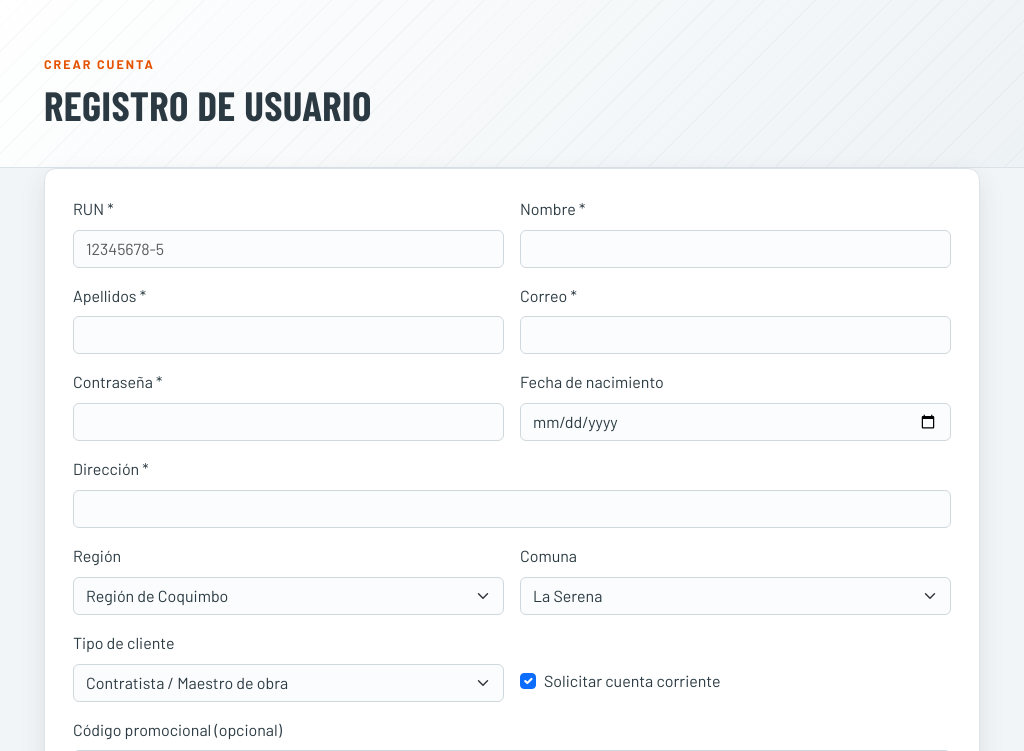
Test: Formulario de Registro › muestra errores y no envía datos cuando son inválidos
The width and height of the screenshot is (1024, 751).
Type "12345678-9" into the field labelled "RUN *" at (288, 248), box [73,230,504,268]
Type "María" into the field labelled "Nombre *" at (736, 248), box [520,230,951,268]
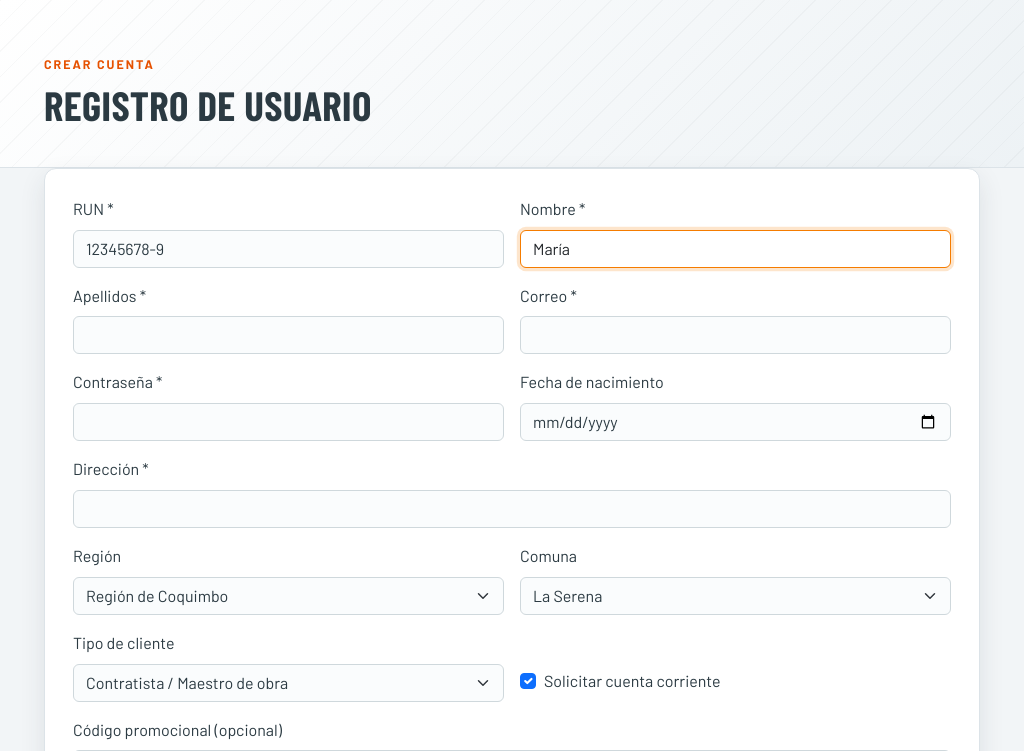
Type "González" into the field labelled "Apellidos *" at (288, 335), box [73,316,504,354]
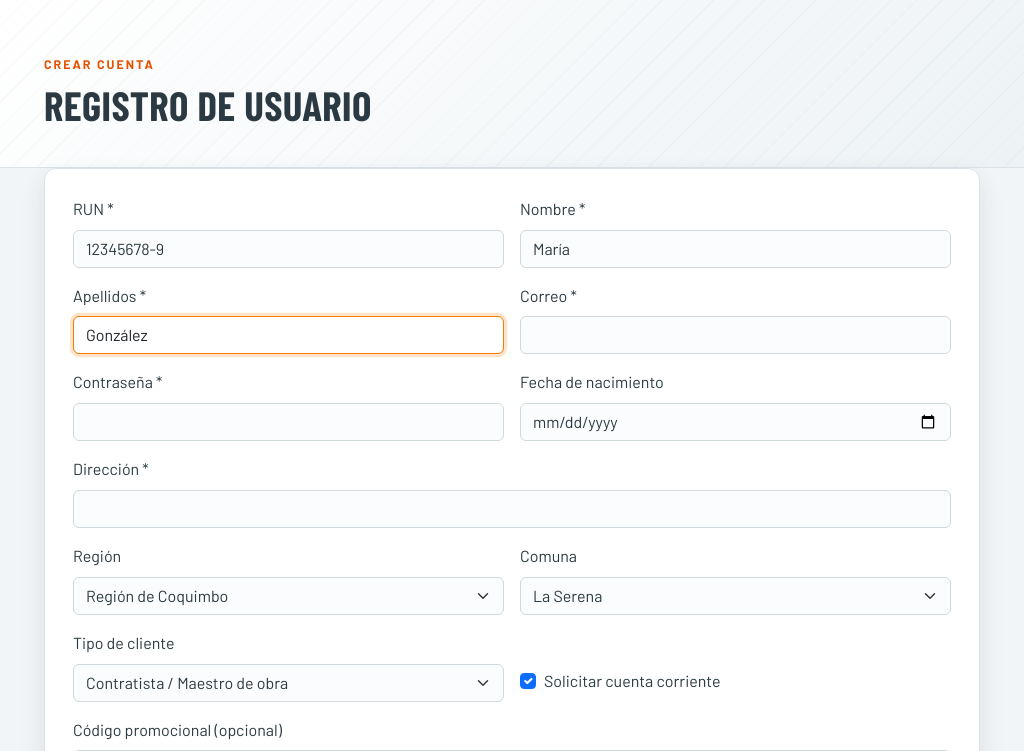
Type "alumna@correo.cl" into the field labelled "Correo *" at (736, 335), box [520,316,951,354]
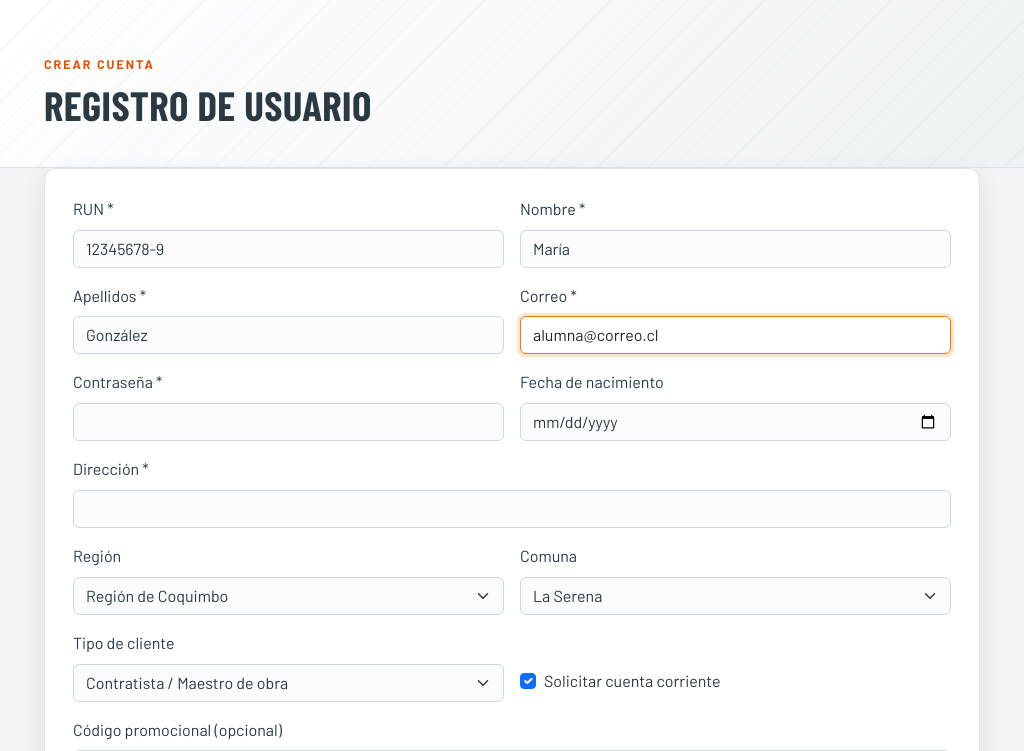
Type "1234" into the password field labelled "Contraseña *" at (288, 422), box [73,403,504,441]
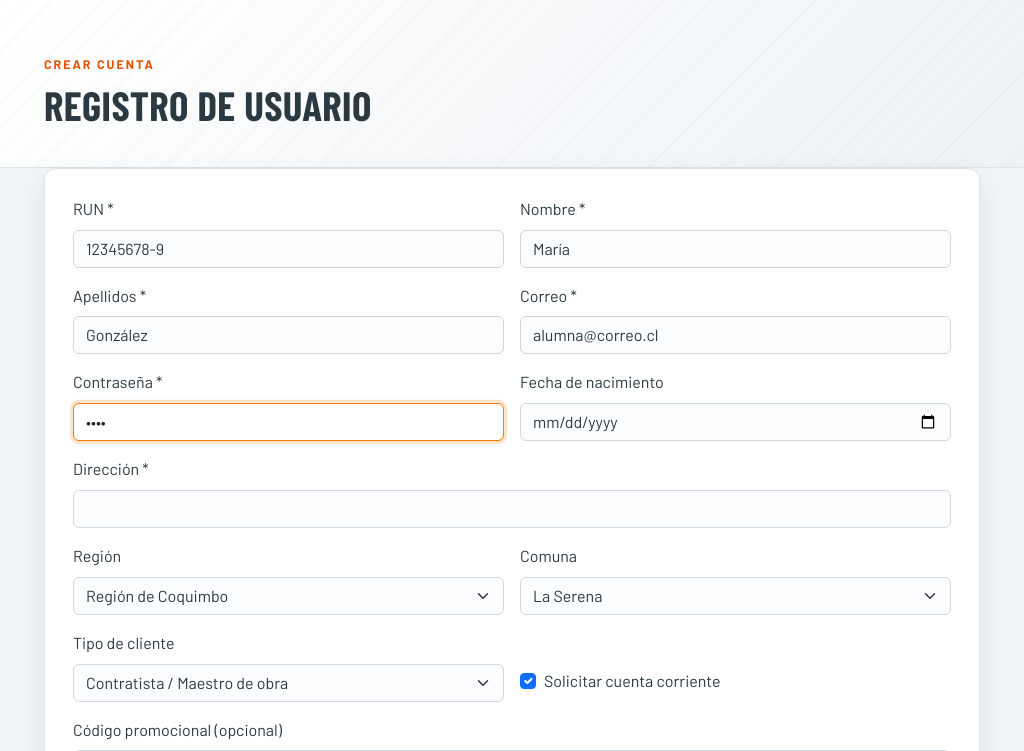
Type "Av. Siempre Viva 123" into the field labelled "Dirección *" at (512, 509), box [73,490,951,528]
(page scrolled)
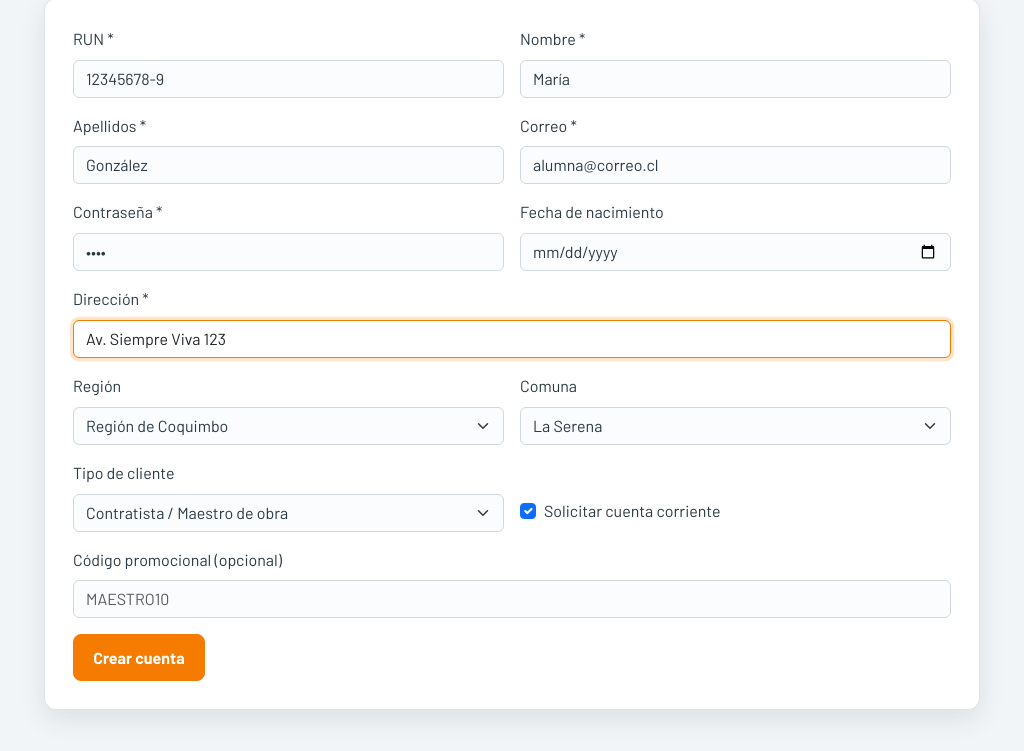
Click the button "Crear cuenta" at (139, 658), box [73,634,205,681]
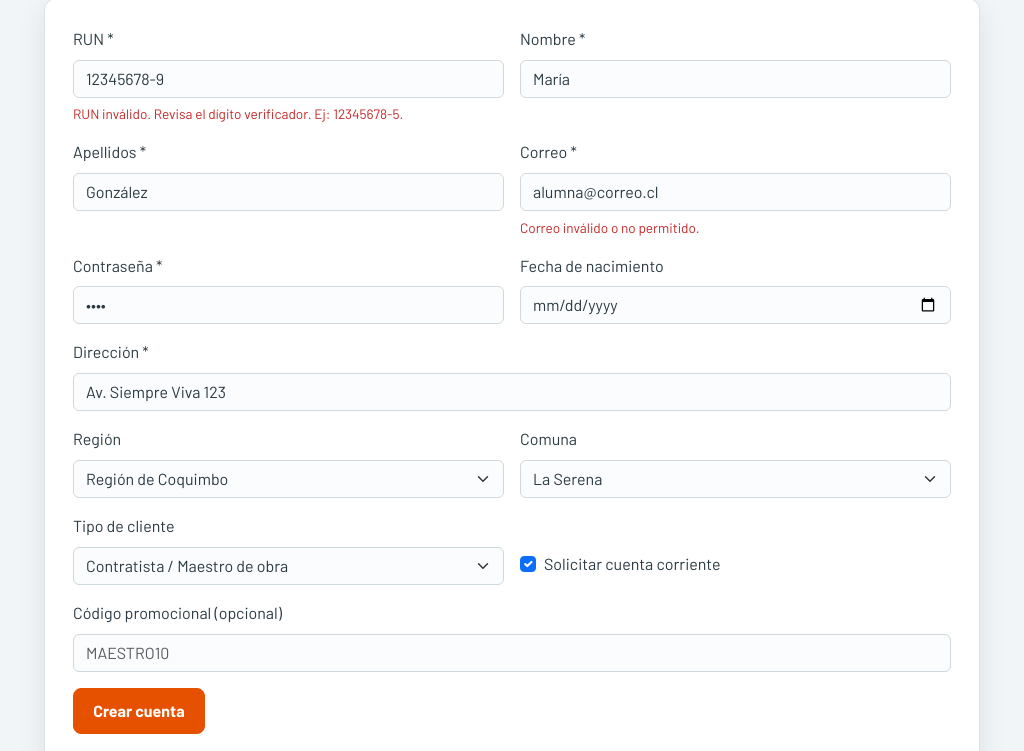
Now the text "RUN inválido. Revisa el dígito verificador. Ej: 12345678-5." is shown, box [73,105,403,122]
Now the text "Correo inválido o no permitido." is shown, box [520,219,700,236]
